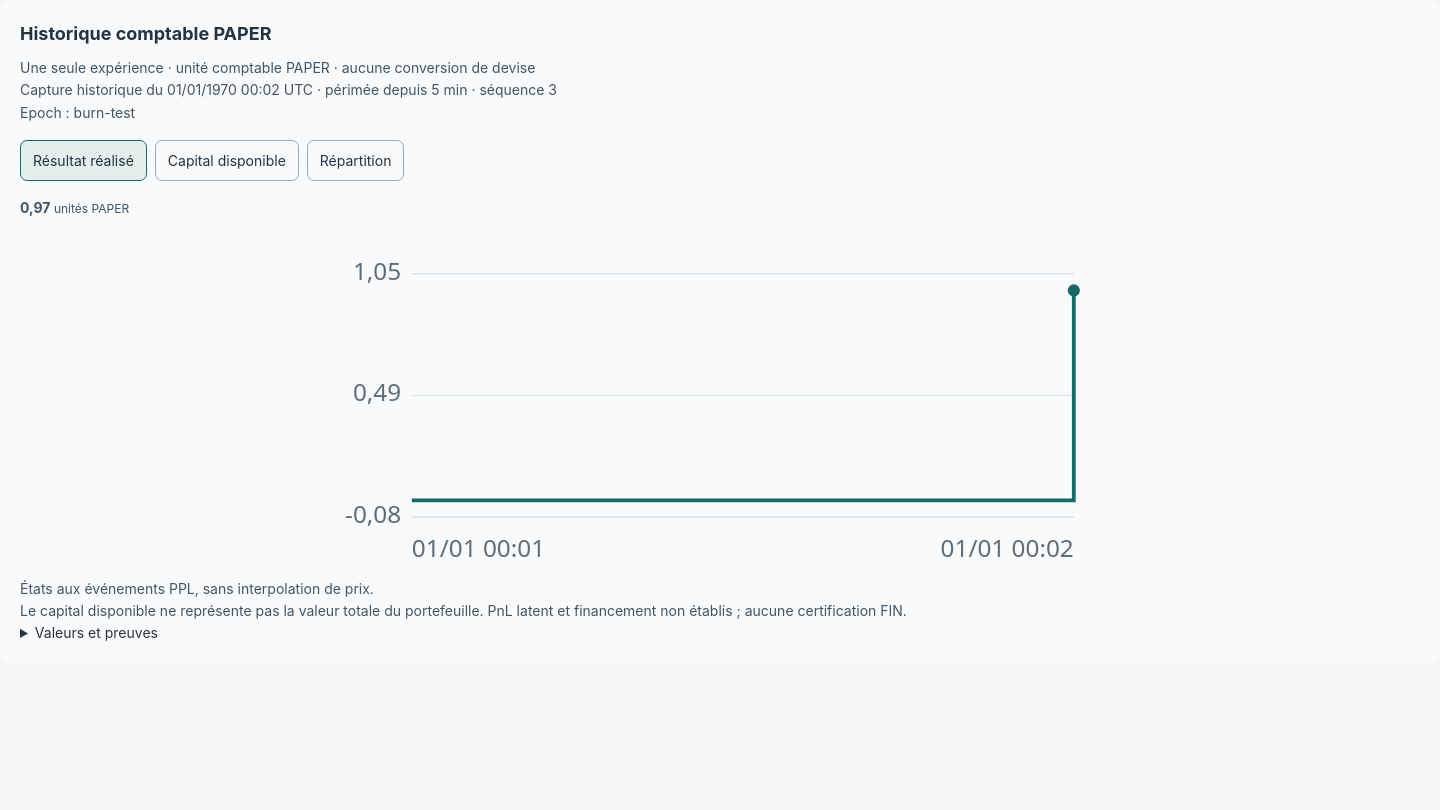
Scenario: PPL accounting charts › renders published history, stale provenance and allocation without FIN availability
Expected: the picture named "Résultat réalisé cumulé aux événements PPL" is shown, [20,228,1420,578]
Expected: the text "Capture historique du" shows "01/01/1970 00:02 UTC", [20,81,468,98]
Click the button "Capital disponible".
click(227, 161)  # box [155,140,299,181]
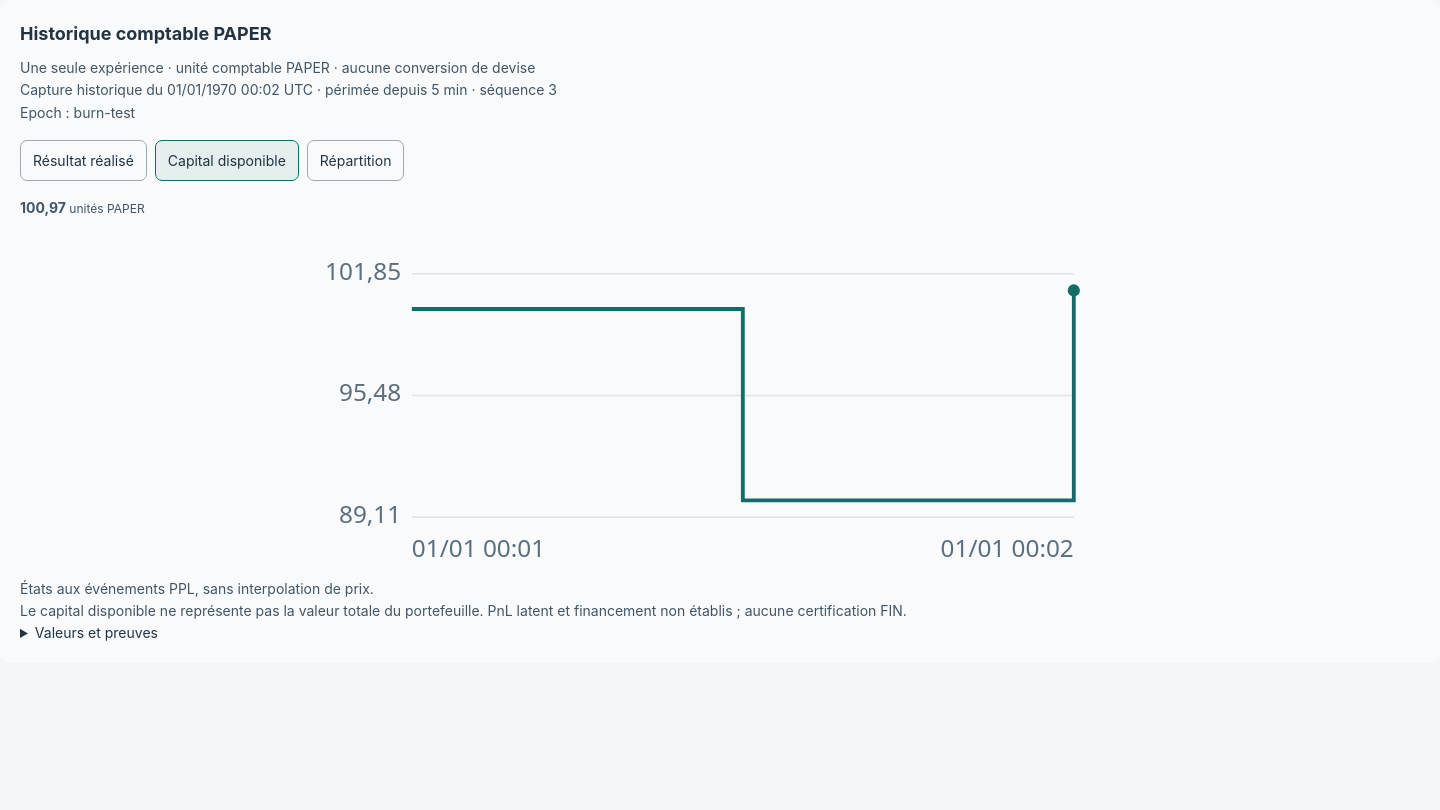
Result: the picture named "Capital disponible aux événements PPL" is shown at [20,228,1420,578]
Click the button "Répartition".
click(356, 161)  # box [307,140,404,181]
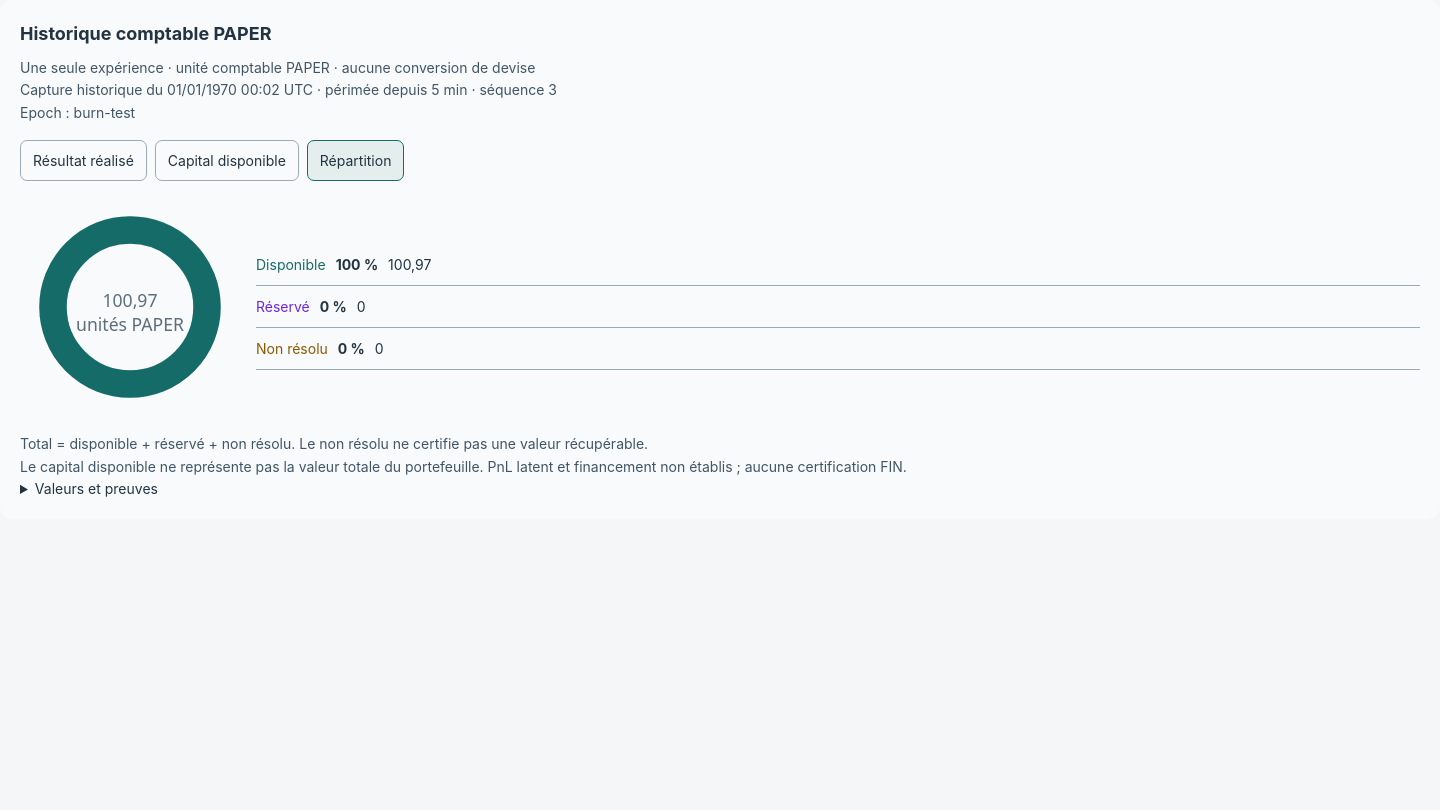
Result: the picture named "Répartition du principal comptable" is shown at [20,197,240,417]
Result: the text "100 %" is shown at [336,254,378,275]
